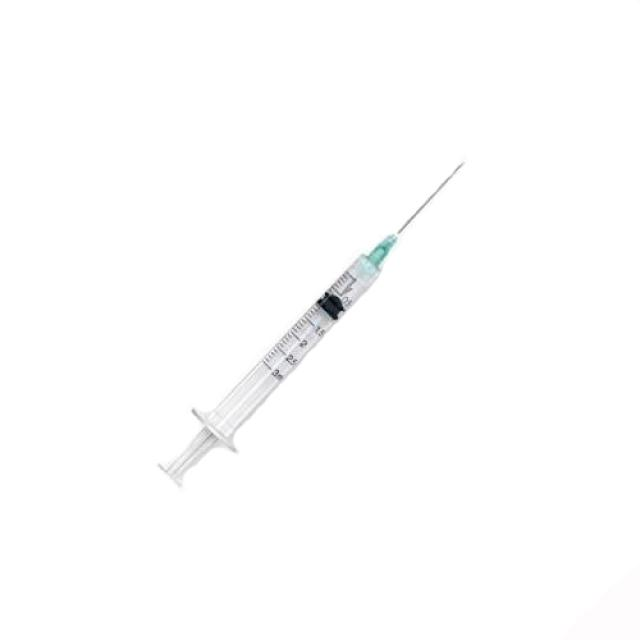syringe: (156, 158, 466, 488)
